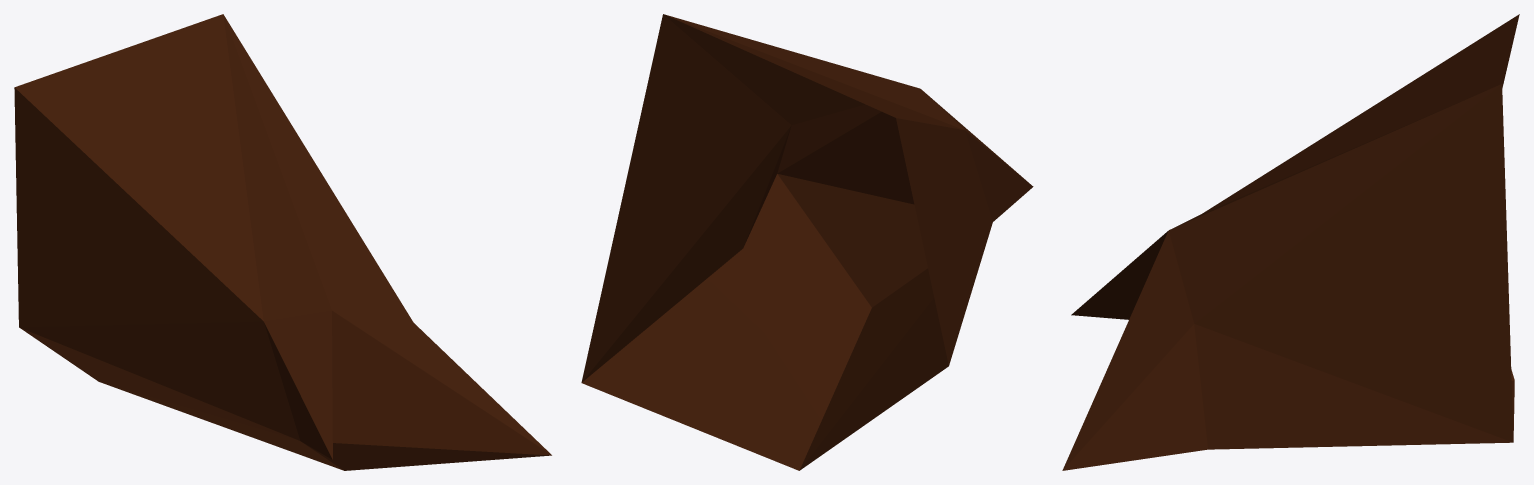
The model's file is 2D_Ground_Decals_Root1.fbx.
3 views of the same model, side by side, from view 1: azimuth 30°, elevation 25°; view 2: azimuth 150°, elevation 25°; view 3: azimuth 270°, elevation 25° (orthographic). The views are drawn at different scales.
Parts seen in each view (by area): view 1: 2D_Ground_Decals_Root1; view 2: 2D_Ground_Decals_Root1; view 3: 2D_Ground_Decals_Root1.
Boxes of the visible parts, x1,y1,x2,y2 form: 2D_Ground_Decals_Root1: (14, 14, 551, 470); 2D_Ground_Decals_Root1: (581, 14, 1033, 470); 2D_Ground_Decals_Root1: (1062, 14, 1519, 470).
Size of the model in its own units: 42.75 by 41.55 by 48.28.
